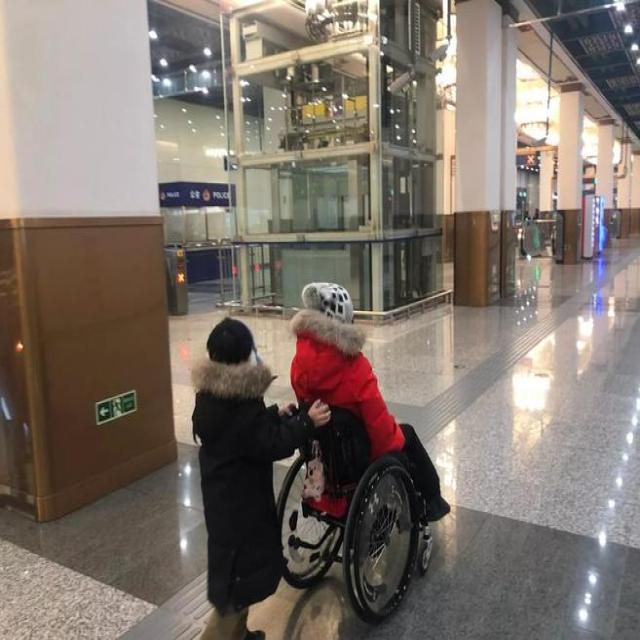wheelchairs: (276, 376, 441, 624)
